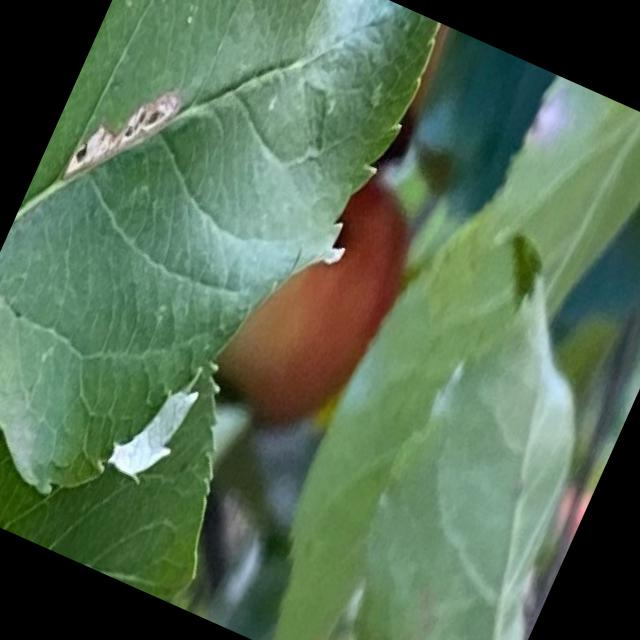Apples: (206, 152, 429, 442)
